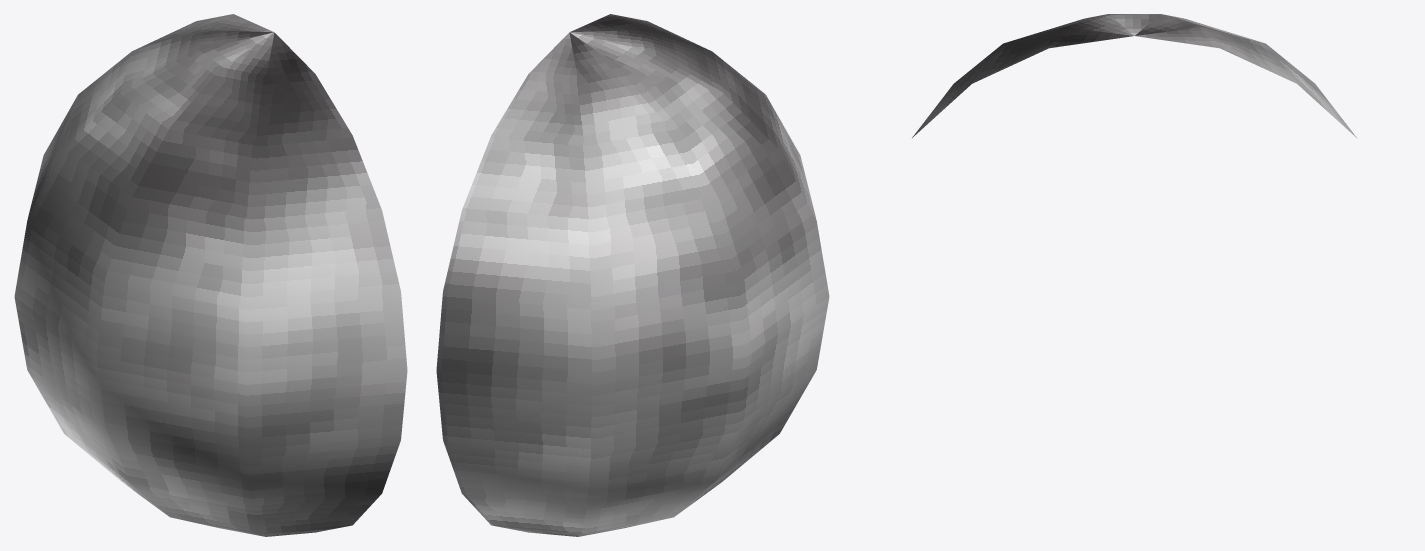
Rendered from shackled_sun.glb.
3 views of the same model, side by side, from view 1: azimuth 30°, elevation 25°; view 2: azimuth 150°, elevation 25°; view 3: azimuth 270°, elevation 25° (orthographic). The views are drawn at different scales.
Parts seen in each view (by area): view 1: Sphere.001; view 2: Sphere.001; view 3: Sphere.001.
Boxes of the visible parts, x1,y1,x2,y2 form: Sphere.001: (14, 14, 407, 536); Sphere.001: (436, 14, 829, 536); Sphere.001: (912, 14, 1356, 137).
Bounding box in the file's own units: 1.87 × 3.92 × 3.92.
Materials: 1 (1 with a texture image).
